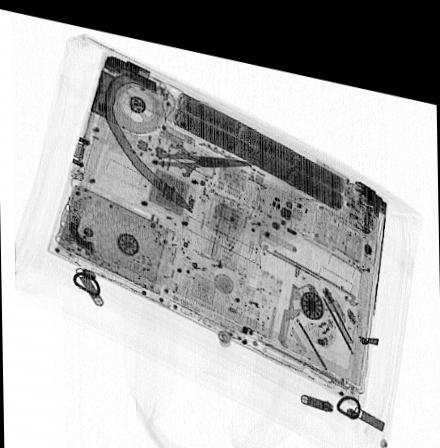Scissors: (149, 130, 261, 171)
